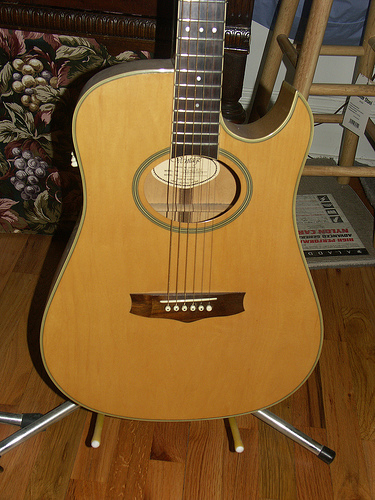guitar: (25, 1, 326, 421)
